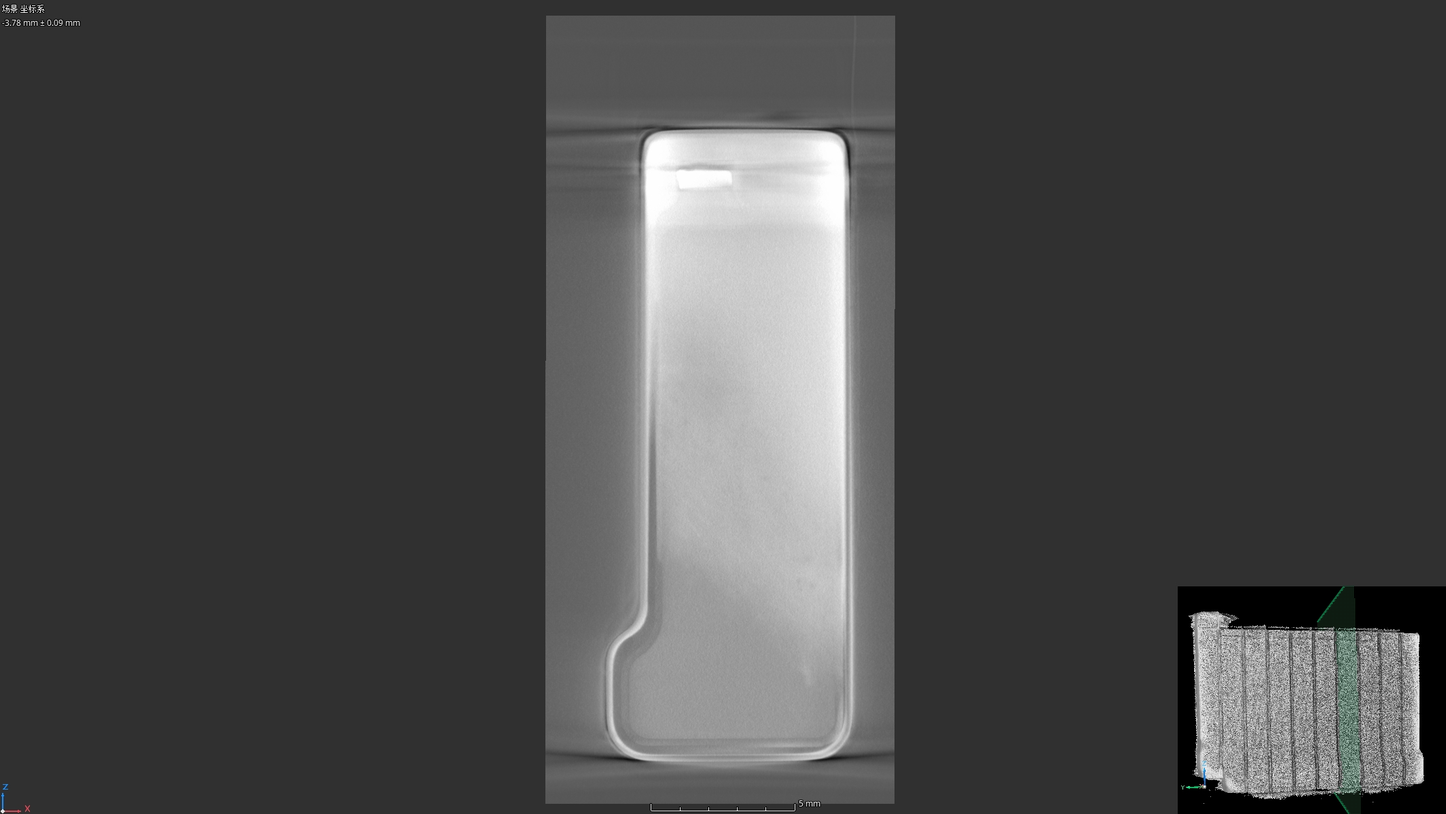light: (796, 663, 817, 689)
